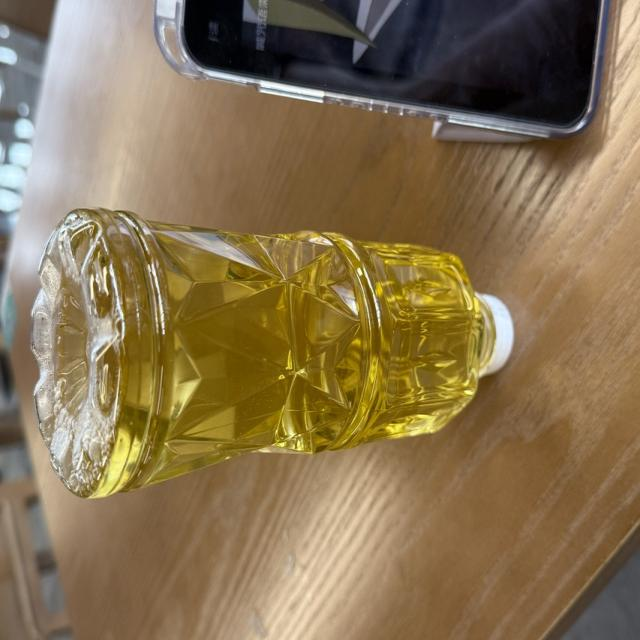high: (32, 209, 512, 497)
